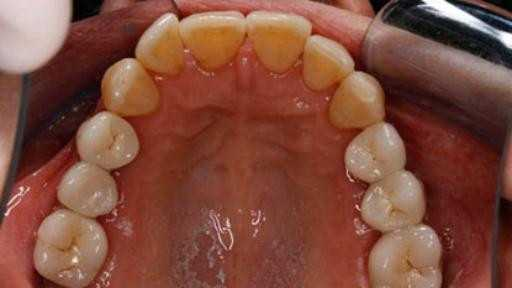UL1BC_decay: (339, 121, 408, 186)
UL1M_decay: (367, 224, 444, 286)
UL2BC_decay: (359, 171, 424, 232)
ULCI_healthy: (245, 9, 308, 74)
ULC_healthy: (324, 71, 383, 133)
ULLI_healthy: (302, 33, 349, 93)
UR1BC_decay: (76, 112, 141, 172)
UR1M_decay: (31, 208, 109, 287)
UR2BC_healthy: (57, 162, 125, 221)
URCI_healthy: (181, 11, 246, 73)
URC_healthy: (100, 54, 163, 118)
URLI_healthy: (134, 9, 188, 79)
